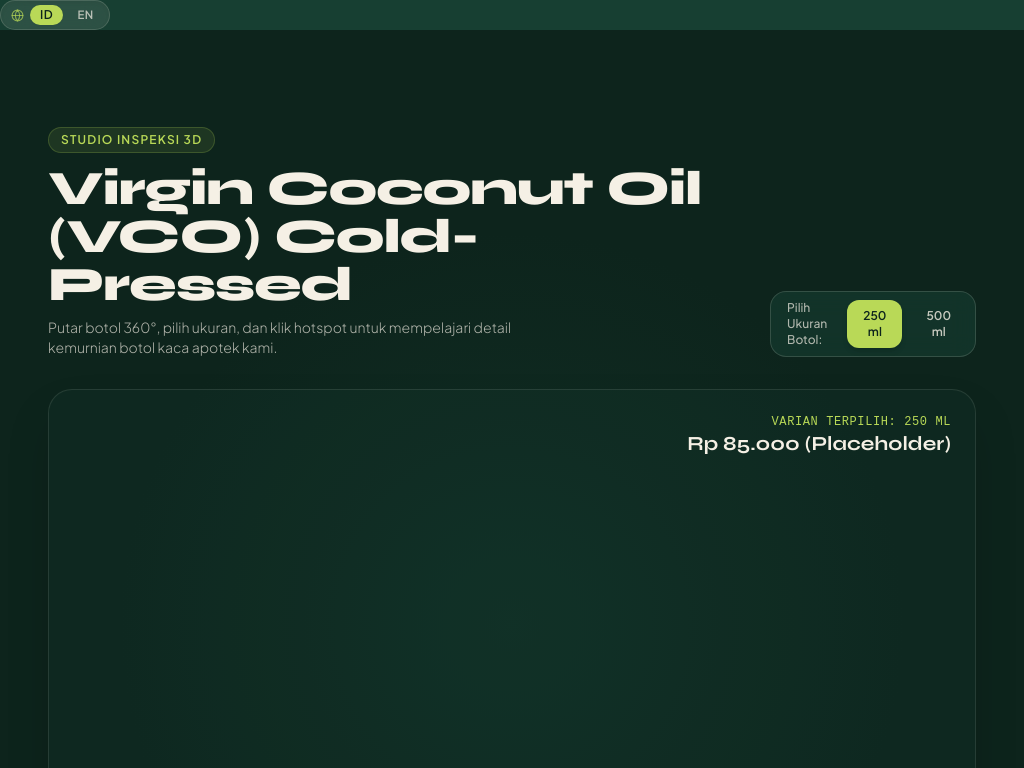
Test: Section 05 Product in 3D Studio › renders English copy when language is switched in 3D Studio
Click the button with aria-label "English": (86, 15) [68,6,104,24]
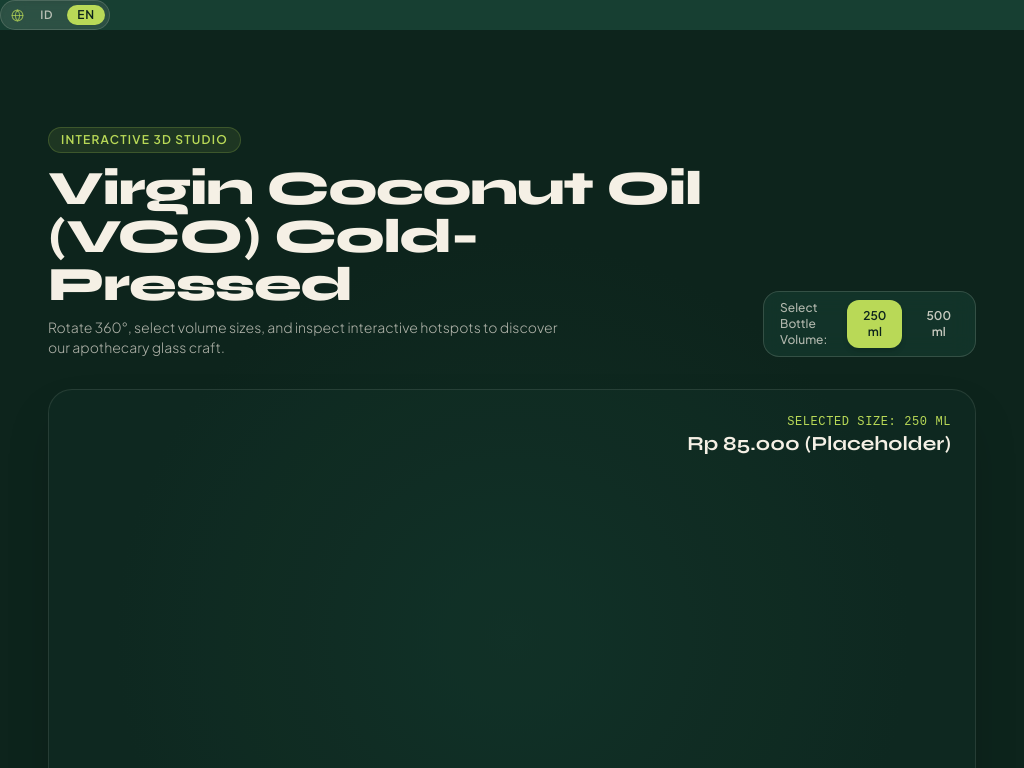
Check: the text "Interactive 3D Studio" is shown, box [48,127,241,153]
Check: the text "Selected Size: 250 ml" is shown, box [787,415,951,429]
